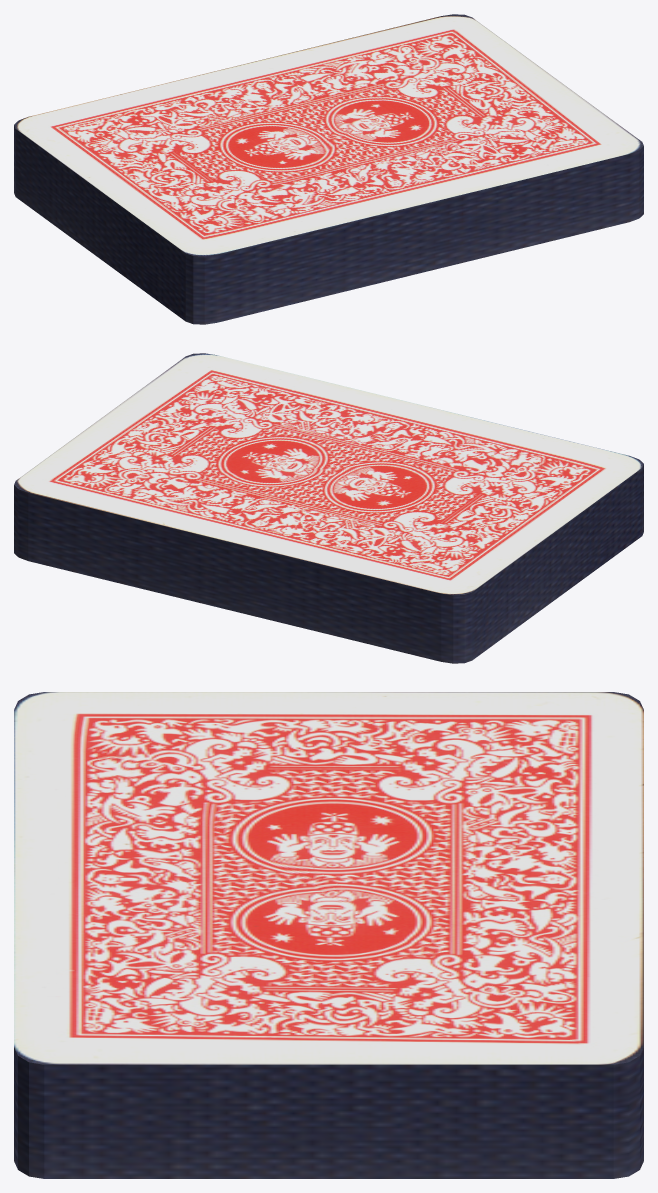
The model's file is Cards.fbx.
3 renders of one model, top to bottom at view 1: azimuth 30°, elevation 25°; view 2: azimuth 150°, elevation 25°; view 3: azimuth 270°, elevation 25°, orthographic. The views are drawn at different scales.
Visible parts, largest first — view 1: Cube; view 2: Cube; view 3: Cube.
Part boxes in pixels (x1,y1,x2,y2): Cube: [14, 14, 643, 324]; Cube: [14, 353, 643, 663]; Cube: [14, 692, 643, 1178].
Size of the model in its own units: 700 by 100 by 500.
